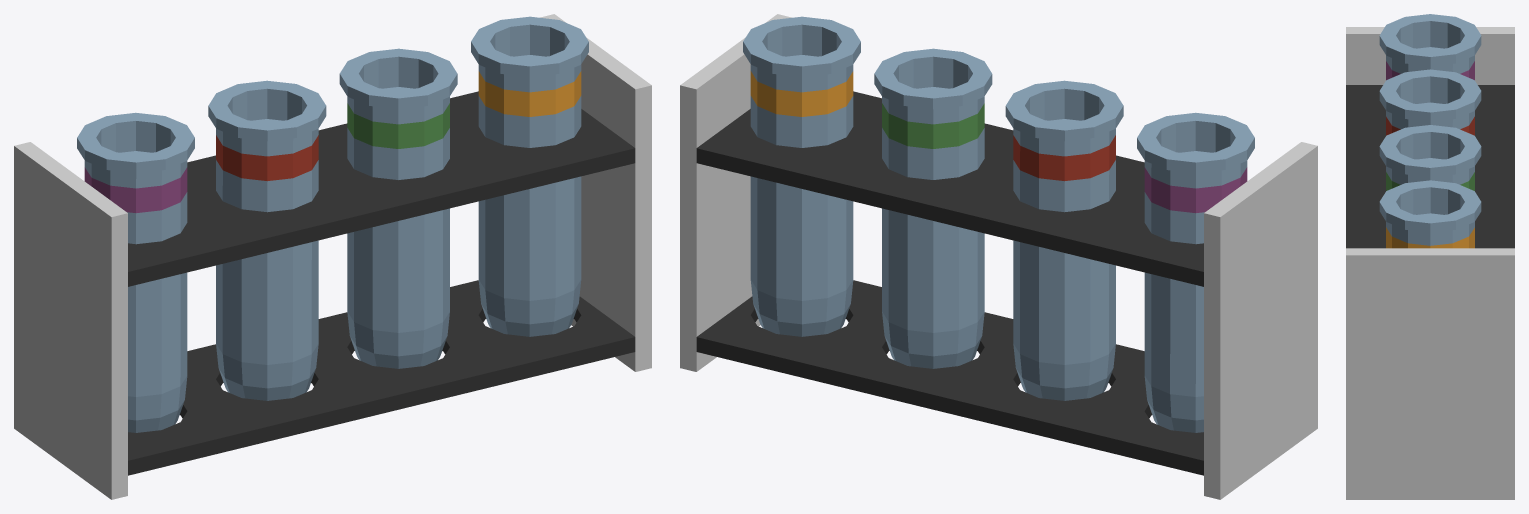
File: Int_ScienceTubeHolder01.fbx
The picture shows the model from 3 angles, left to right: view 1: azimuth 30°, elevation 25°; view 2: azimuth 150°, elevation 25°; view 3: azimuth 270°, elevation 25°; orthographic projection. The views are drawn at different scales.
Parts seen in each view (by area): view 1: Int_ScienceTubeHolder01, Int_ScienceTube04, Int_ScienceTube02, Int_ScienceTube03, Int_ScienceTube01; view 2: Int_ScienceTubeHolder01, Int_ScienceTube04, Int_ScienceTube02, Int_ScienceTube03, Int_ScienceTube01; view 3: Int_ScienceTubeHolder01, Int_ScienceTube04, Int_ScienceTube01, Int_ScienceTube02, Int_ScienceTube03.
Part boxes in pixels (x1,y1,x2,y2): Int_ScienceTubeHolder01: (14, 14, 651, 499); Int_ScienceTube04: (471, 16, 588, 336); Int_ScienceTube02: (208, 80, 326, 400); Int_ScienceTube03: (339, 48, 457, 368); Int_ScienceTube01: (77, 112, 194, 432); Int_ScienceTubeHolder01: (680, 14, 1317, 499); Int_ScienceTube04: (743, 16, 860, 336); Int_ScienceTube02: (1005, 80, 1123, 400); Int_ScienceTube03: (874, 48, 992, 368); Int_ScienceTube01: (1137, 112, 1254, 432); Int_ScienceTubeHolder01: (1346, 27, 1514, 499); Int_ScienceTube04: (1379, 180, 1481, 248); Int_ScienceTube01: (1379, 14, 1481, 80); Int_ScienceTube02: (1379, 69, 1481, 135); Int_ScienceTube03: (1379, 125, 1481, 190).
Size of what is drawn, in the model's own units: 40 by 12.5 by 21.84.
